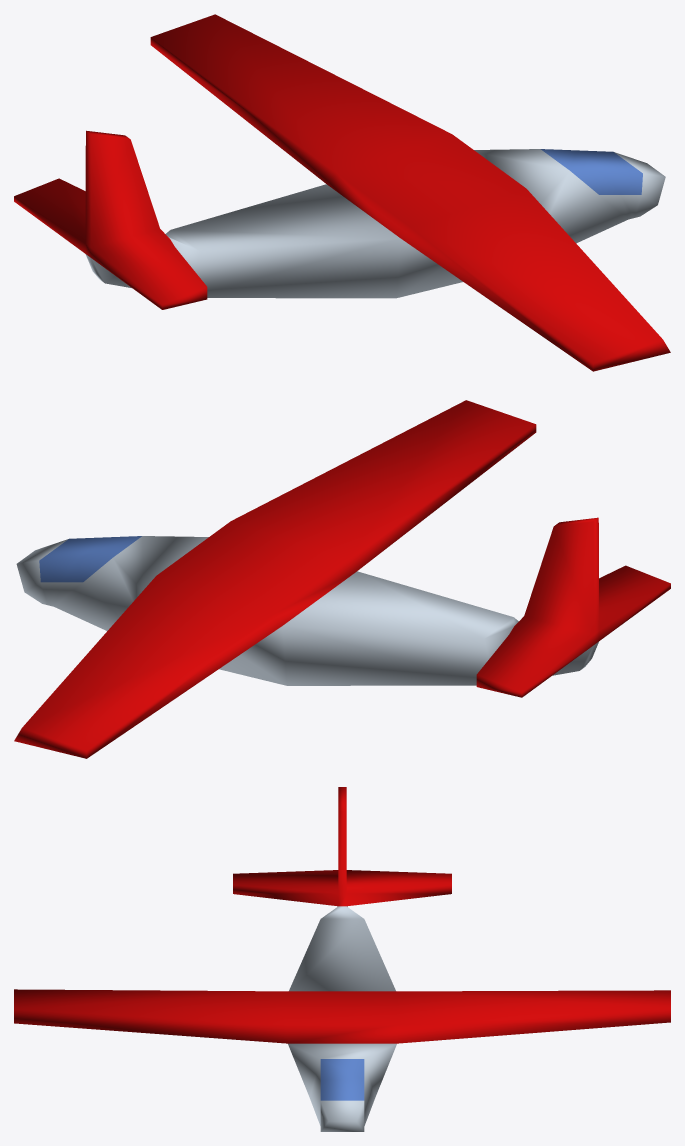
3 renders of one model, top to bottom at view 1: azimuth 30°, elevation 25°; view 2: azimuth 150°, elevation 25°; view 3: azimuth 270°, elevation 25°, orthographic. The views are drawn at different scales.
Visible parts, largest first — view 1: Cube; view 2: Cube; view 3: Cube.
Boxes of the visible parts, bbox=[...] form: Cube: bbox=[14, 14, 670, 371]; Cube: bbox=[14, 400, 670, 758]; Cube: bbox=[14, 787, 670, 1131].
Size of the model in its own units: 8.85 by 3.26 by 12.
